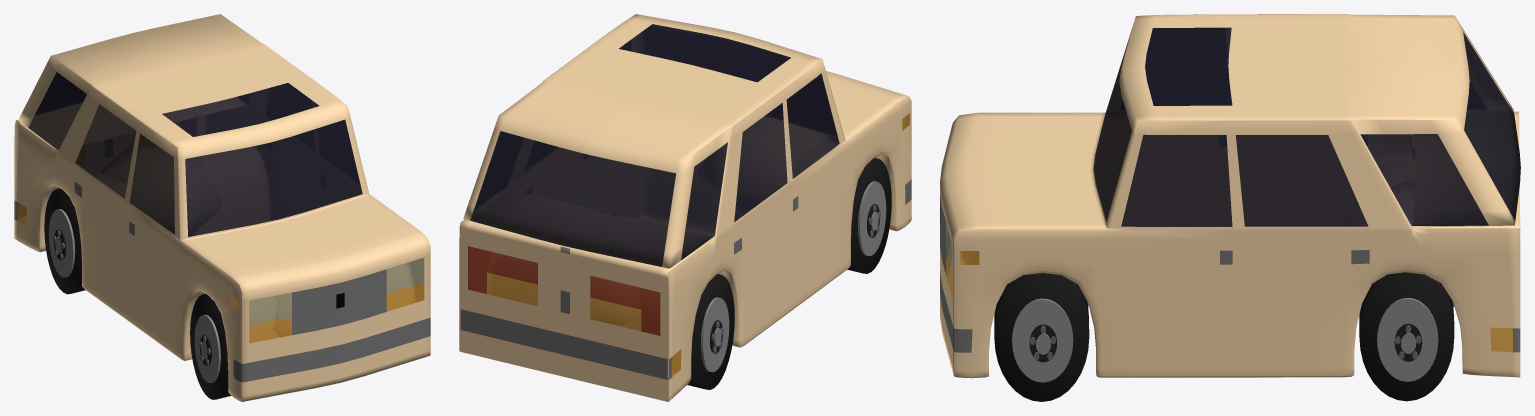
Rendered from car3wagonAZgold.fbx.
3 views of the same model, side by side, from view 1: azimuth 30°, elevation 25°; view 2: azimuth 150°, elevation 25°; view 3: azimuth 270°, elevation 25° (orthographic). The views are drawn at different scales.
Parts seen in each view (by area): view 1: Car2, LugNut.001, LugNut.002; view 2: Car2, LugNut.002, LugNut.001; view 3: Car2, LugNut.004, LugNut.003.
Boxes of the visible parts, x1,y1,x2,y2 form: Car2: [14, 14, 430, 401]; LugNut.001: [190, 294, 231, 399]; LugNut.002: [44, 188, 85, 294]; Car2: [459, 14, 911, 401]; LugNut.002: [687, 274, 734, 389]; LugNut.001: [847, 158, 891, 273]; Car2: [940, 14, 1520, 378]; LugNut.004: [994, 273, 1089, 401]; LugNut.003: [1359, 272, 1454, 401].
Bounding box in the file's own units: 187 × 204 × 385.
